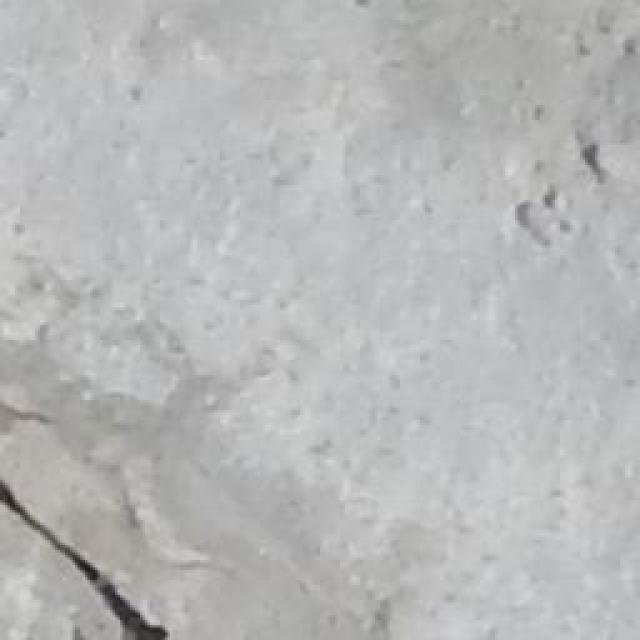concrete-crack: (0, 474, 187, 640)
